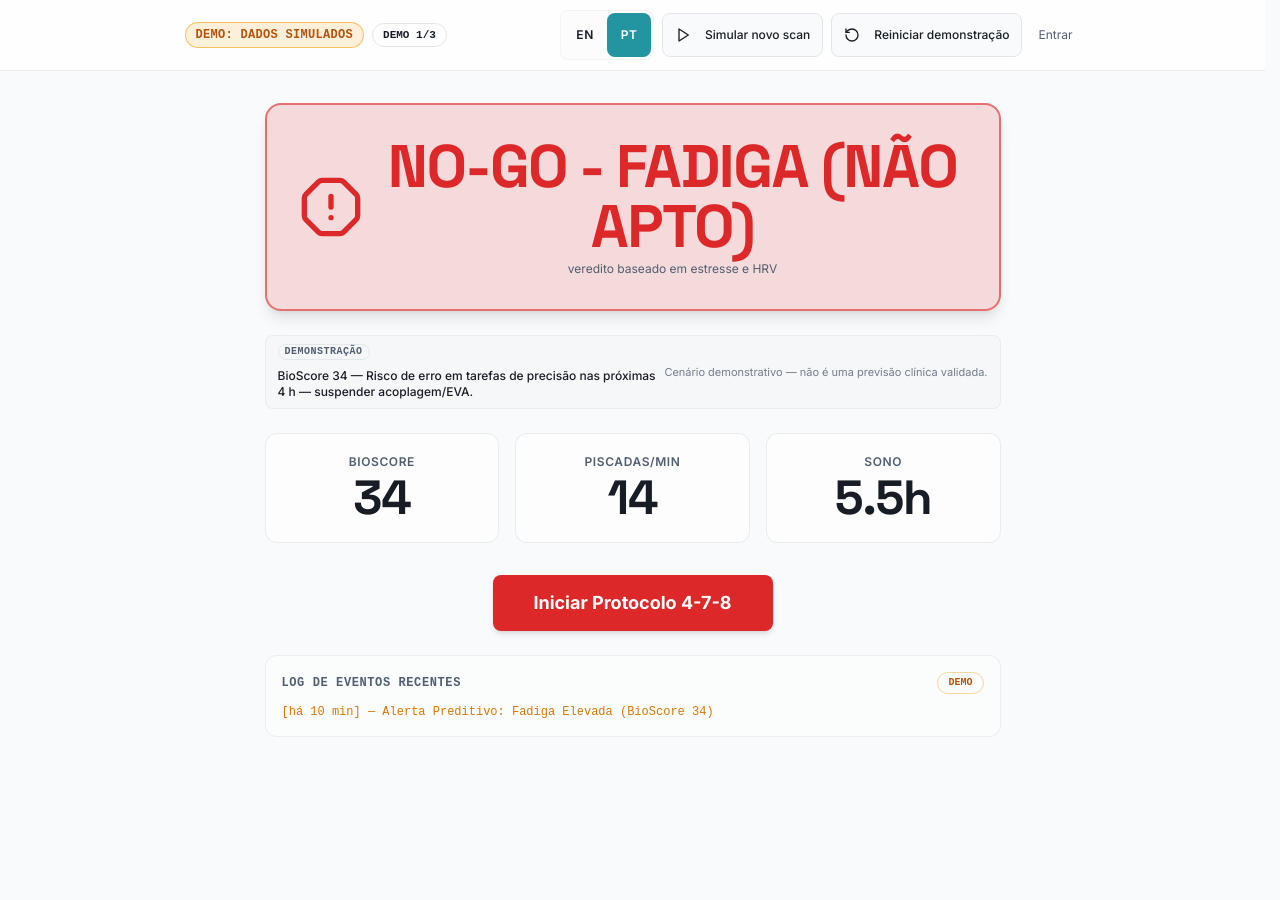
Demo Page (/demo) - Demonstração Pública sem Login e sem Rede › Fluxos em Português (initialLang="pt") › valida BioScore, piscadas inteiras (roundBlinkRate) e sono nas 3 etapas contra getDemoScenarioData(1|2|3) (AAA)
Check: the text "34" is shown, box [353,474,410,522]
Check: the text "14" is shown, box [608,474,657,522]
Note: Transição para Etapa 2 (Ação Primária: Iniciar Protocolo 4-7-8)
What coordinates should you click on to do the following:
click the button "Iniciar Protocolo 4-7-8"
I would click on:
 (632, 603)
Its box is [492,575,772,631].
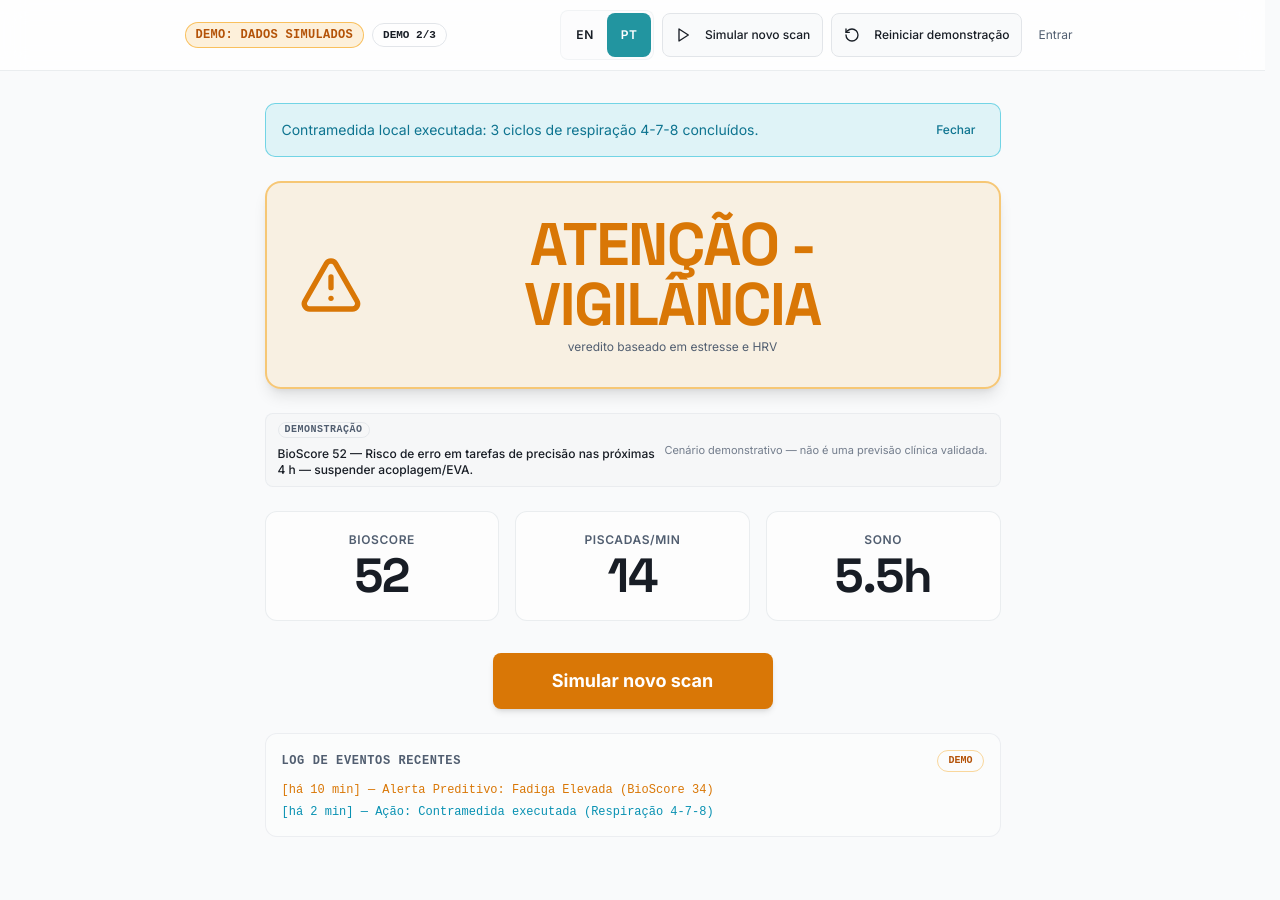
Check: the text "14" is shown, box [608,552,657,600]
Check: the text "52" is shown, box [355,552,409,600]
Note: Transição para Etapa 3 (Simular novo scan)
What coordinates should you click on to do the following:
click the button "Simular novo scan" in the row of "Entrar"
I would click on:
 (743, 35)
Its box is [662,13,823,57].
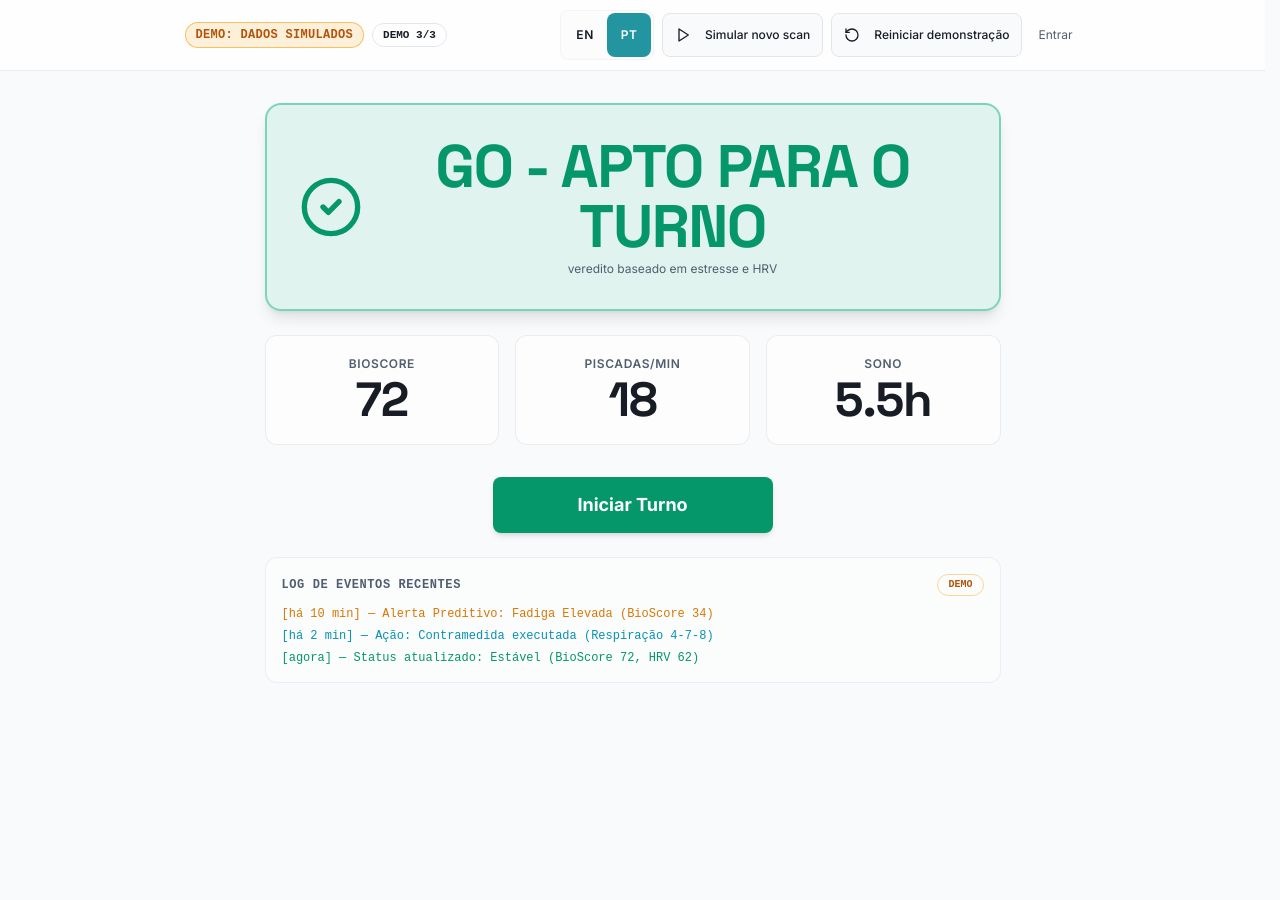
Check: the text "5.5h" is shown, box [835,376,932,424]
Check: the text "72" is shown, box [356,376,408,424]
Check: the text "18" is shown, box [608,376,656,424]
